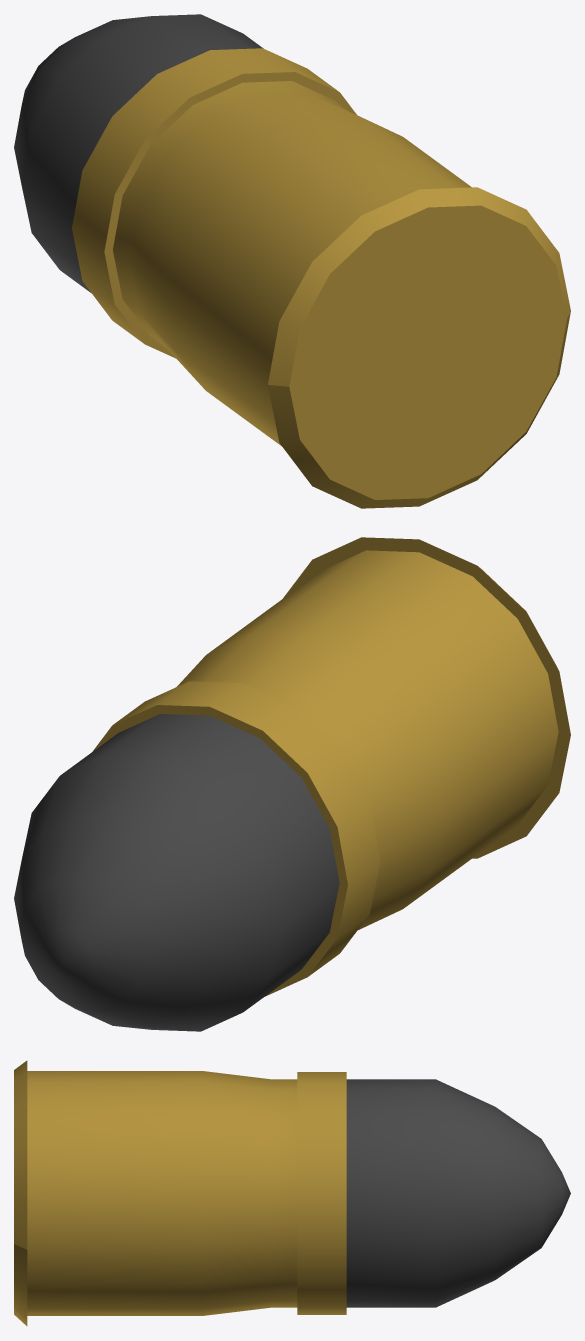
Rendered from ap_shell_37.fbx.
3 views of the same model, one above another, from view 1: azimuth 30°, elevation 25°; view 2: azimuth 150°, elevation 25°; view 3: azimuth 270°, elevation 25° (orthographic). The views are drawn at different scales.
Visible parts, largest first — view 1: Cylinder; view 2: Cylinder; view 3: Cylinder.
Part boxes in pixels (x1=…): Cylinder: x1=14, y1=14, x2=570, y2=508; Cylinder: x1=14, y1=537, x2=570, y2=1031; Cylinder: x1=14, y1=1060, x2=570, y2=1326.
Size of the model in its own units: 96.76 by 96.76 by 202.
